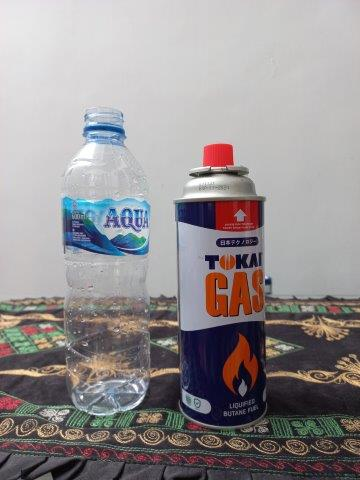botolplastik: (60, 107, 151, 415)
kaleng: (175, 143, 268, 427)
